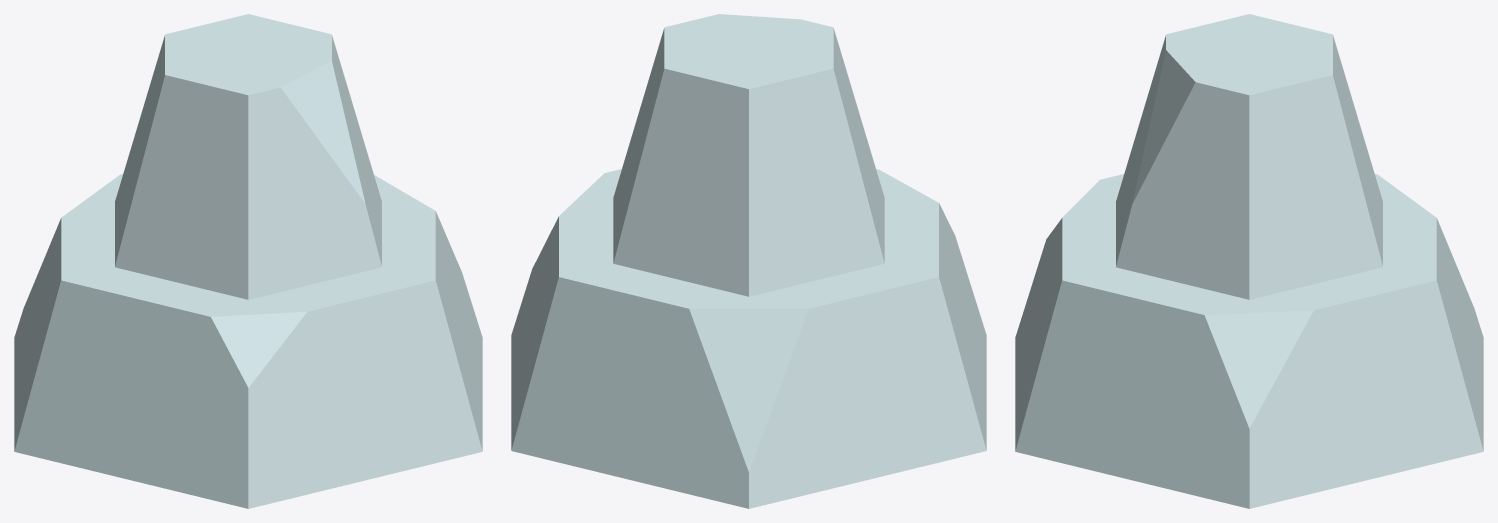
Rendered from stone_smallF.glb.
The picture shows the model from 3 angles, left to right: view 1: azimuth 30°, elevation 25°; view 2: azimuth 150°, elevation 25°; view 3: azimuth 270°, elevation 25°; orthographic projection.
Visible parts, largest first — view 1: stone_smallF; view 2: stone_smallF; view 3: stone_smallF.
Boxes of the visible parts, bbox=[...] form: stone_smallF: bbox=[14, 14, 482, 508]; stone_smallF: bbox=[511, 14, 986, 508]; stone_smallF: bbox=[1015, 14, 1483, 508].
Bounding box in the file's own units: 0.3536 × 0.2453 × 0.3062.
1 material, 1 textured.
